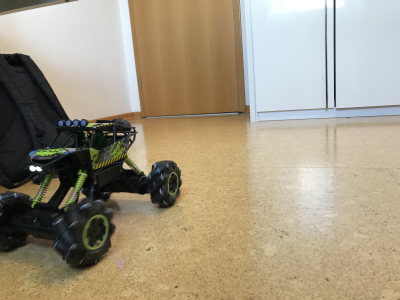remote control car: (1, 115, 184, 272)
